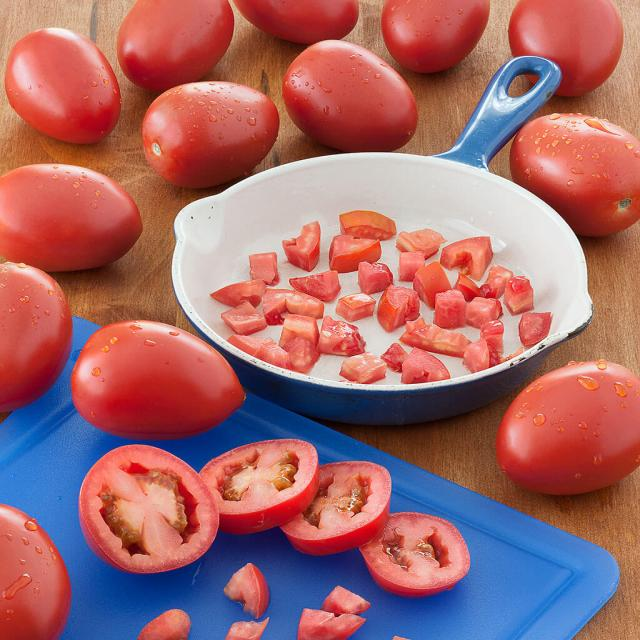tomato: (78, 321, 250, 432), (498, 370, 640, 486), (283, 38, 421, 156), (0, 24, 129, 144), (134, 77, 288, 177), (515, 109, 640, 226)
